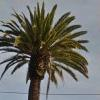Palm tree: (10, 5, 79, 99)
